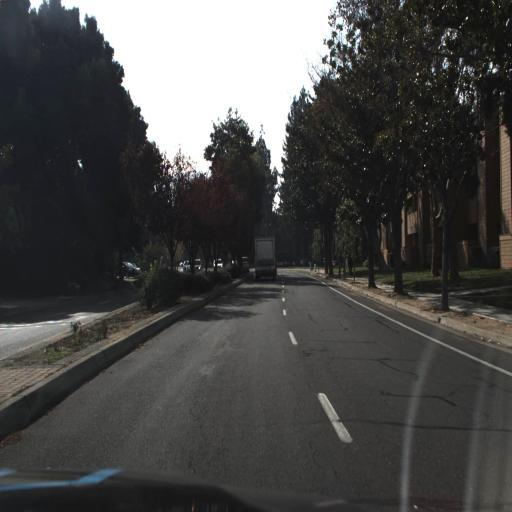car: (113, 253, 144, 282)
truck: (251, 232, 281, 286)
